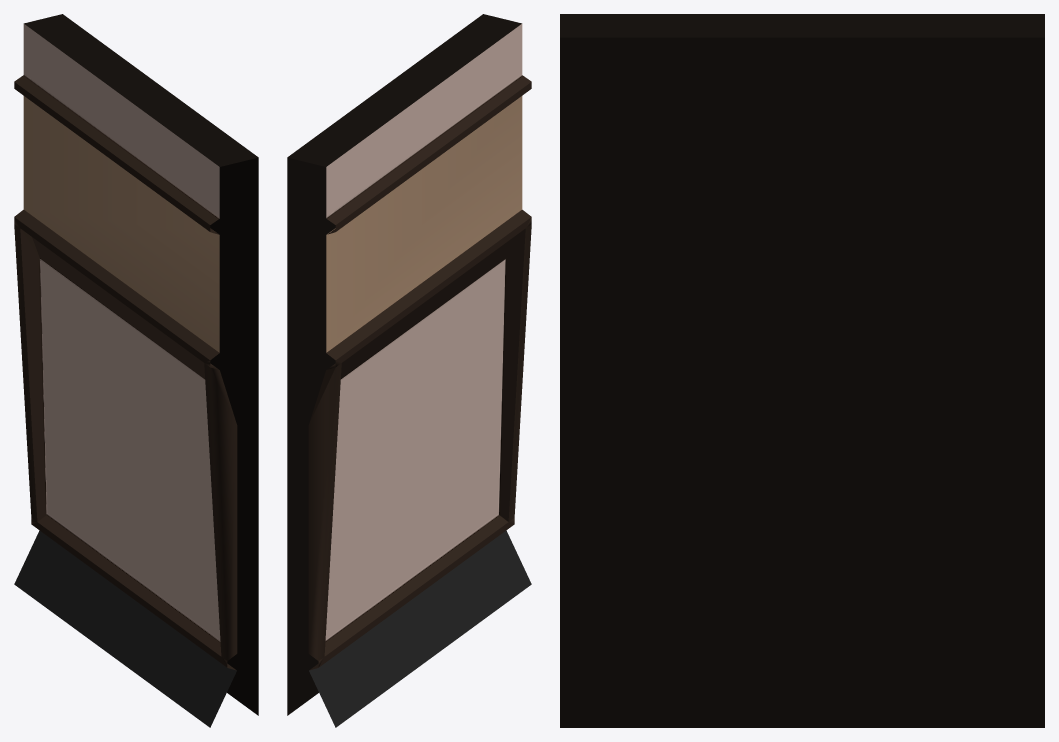
File: em_wall_hallway_mural.fbx
The picture shows the model from 3 angles, left to right: view 1: azimuth 30°, elevation 25°; view 2: azimuth 150°, elevation 25°; view 3: azimuth 270°, elevation 25°; orthographic projection. The views are drawn at different scales.
Visible parts, largest first — view 1: em_wall_hallway_mural_polySurface2; view 2: em_wall_hallway_mural_polySurface2; view 3: em_wall_hallway_mural_polySurface2.
Part boxes in pixels (left/top/right/bottom): em_wall_hallway_mural_polySurface2: left=14, top=14, right=258, bottom=727; em_wall_hallway_mural_polySurface2: left=287, top=14, right=531, bottom=727; em_wall_hallway_mural_polySurface2: left=560, top=14, right=1044, bottom=727.
Bounding box in the file's own units: 100 × 1100 × 700.
